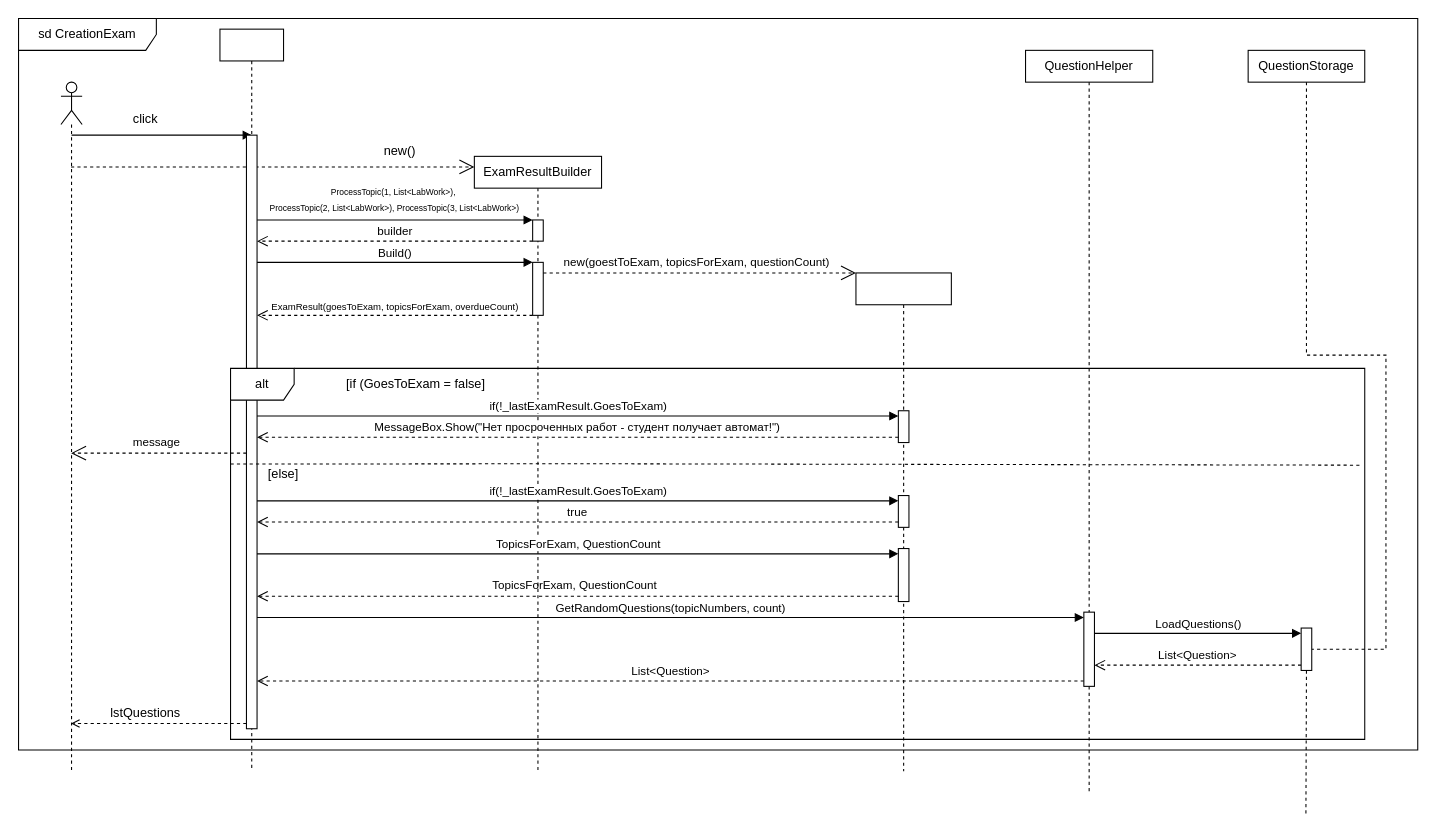
Some shapes in this 1436 by 833 pixel diagram are drawn without their labels. Here are the shapes that lost their labels. From the top down, the centre of each, then its label:
At [251,44]: "UI".
At [903,288]: "ExamResult".
